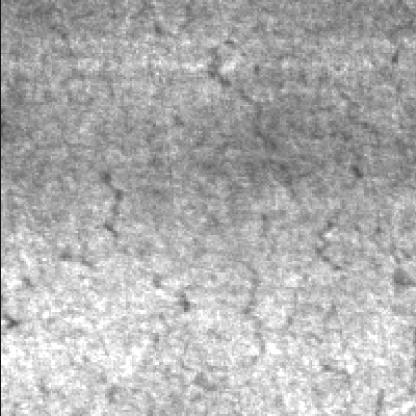crazing: (206, 34, 385, 266), (64, 160, 246, 380)
